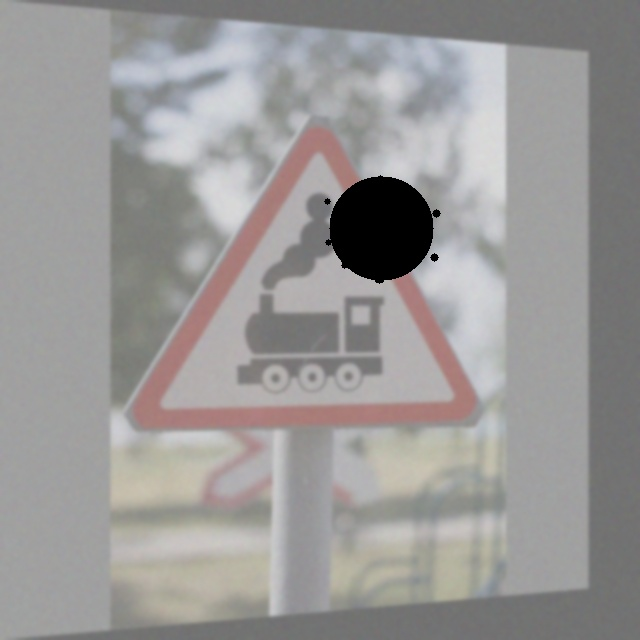Unguarded_Level_Crossing: (143, 98, 475, 438)
